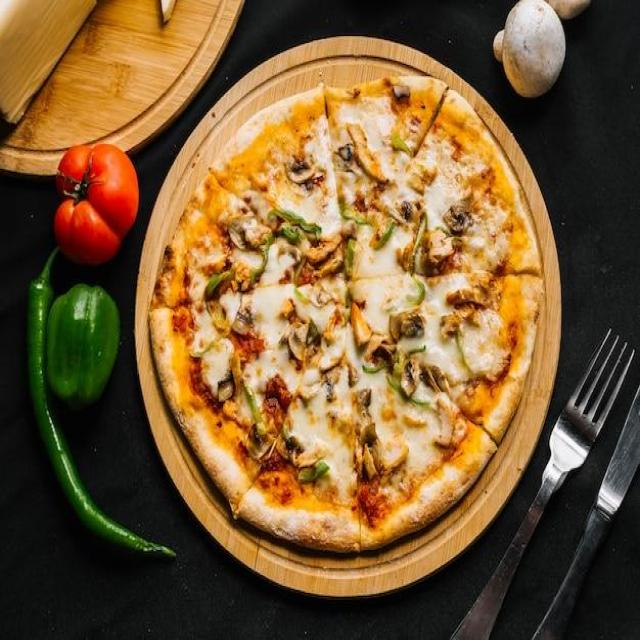pizza: (150, 76, 545, 553)
